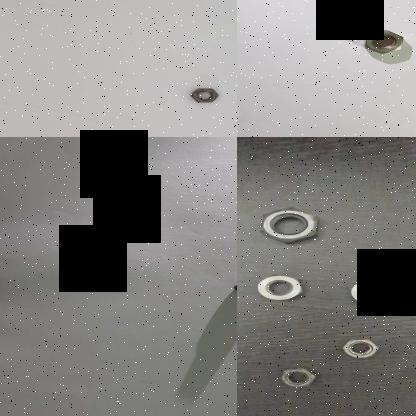NUTS: (257, 204, 323, 246), (254, 269, 308, 304), (268, 360, 324, 390), (348, 276, 400, 306), (360, 26, 408, 57), (339, 336, 383, 358), (187, 86, 221, 104)
